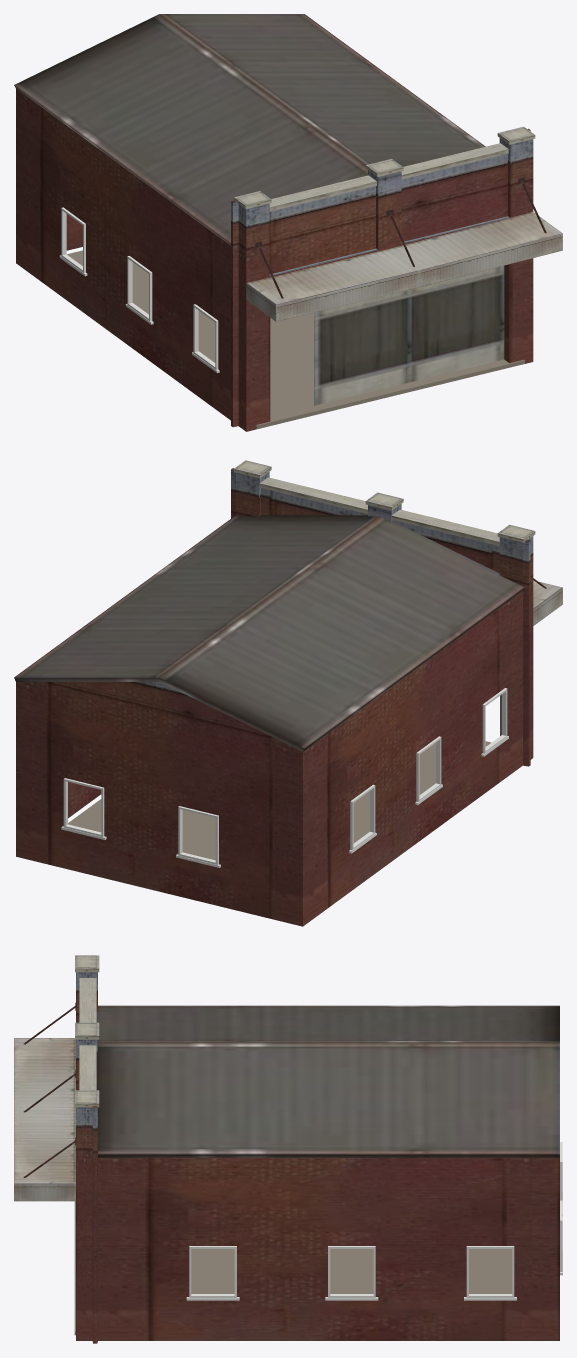
The model's file is rural-store-1.windows-v1.lod0.glb.
3 renders of one model, top to bottom at view 1: azimuth 30°, elevation 25°; view 2: azimuth 150°, elevation 25°; view 3: azimuth 270°, elevation 25°, orthographic. The views are drawn at different scales.
Parts seen in each view (by area): view 1: Rural_StoreSmall_1_Rural_Brownstone_Facade_Flr_6_0, Rural_StoreSmall_1_Rural_Facade_FLR_2_0, Walkable floors and stairs, Window frames; view 2: Rural_StoreSmall_1_Rural_Brownstone_Facade_Flr_6_0, Rural_StoreSmall_1_Rural_Facade_FLR_2_0, Window frames, Walkable floors and stairs; view 3: Rural_StoreSmall_1_Rural_Brownstone_Facade_Flr_6_0, Rural_StoreSmall_1_Rural_Facade_FLR_2_0, Walkable floors and stairs, Window frames.
Part boxes in pixels (x1,y1,x2,y2): Rural_StoreSmall_1_Rural_Brownstone_Facade_Flr_6_0: (14,14,533,431); Rural_StoreSmall_1_Rural_Facade_FLR_2_0: (234,126,562,405); Walkable floors and stairs: (67,250,524,429); Window frames: (59,207,219,372); Rural_StoreSmall_1_Rural_Brownstone_Facade_Flr_6_0: (14,468,533,926); Rural_StoreSmall_1_Rural_Facade_FLR_2_0: (234,460,562,735); Window frames: (61,688,508,867); Walkable floors and stairs: (68,741,491,860); Rural_StoreSmall_1_Rural_Brownstone_Facade_Flr_6_0: (76,972,559,1343); Rural_StoreSmall_1_Rural_Facade_FLR_2_0: (14,955,99,1201); Walkable floors and stairs: (74,1201,512,1335); Window frames: (186,1142,562,1300).
Size of what is drawn, in the model's own units: 8.32 by 6.06 by 12.66.
Materials: 4 (2 with a texture image).
